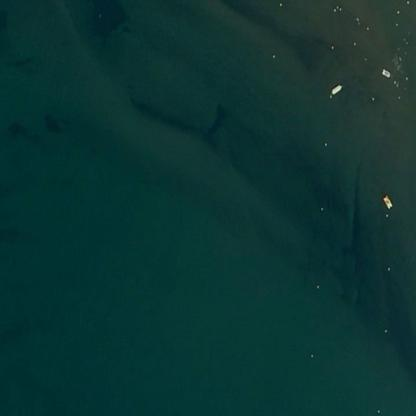ship: (324, 79, 346, 103), (378, 190, 398, 211), (376, 63, 394, 82)
